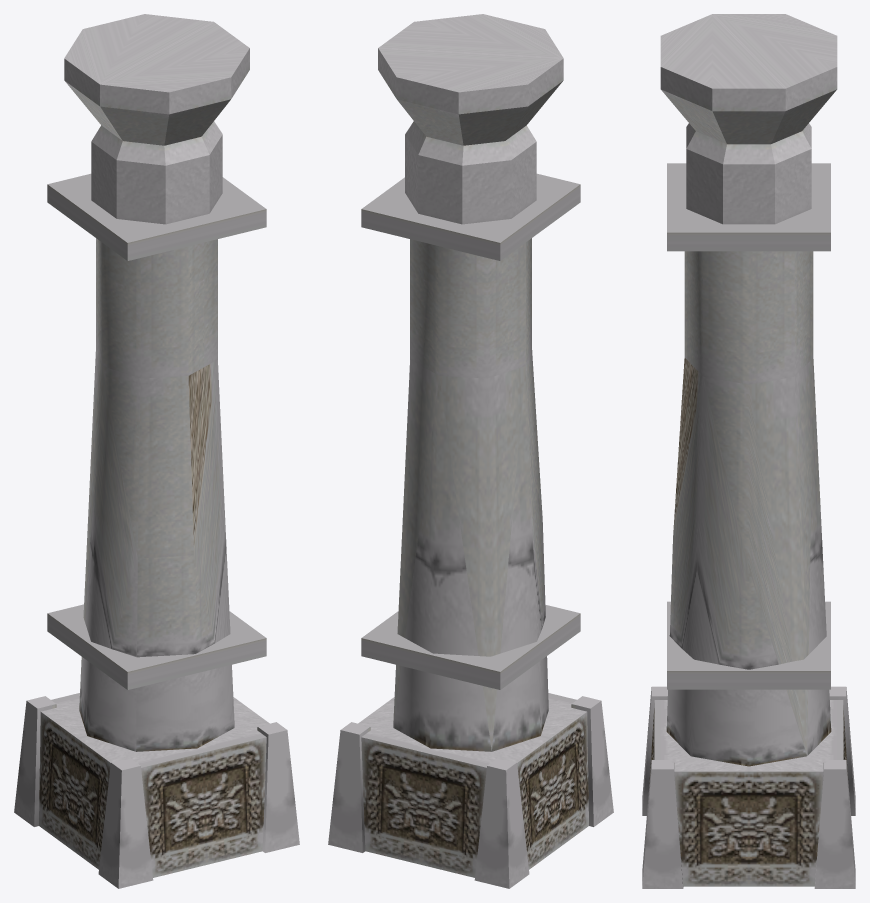
The model's file is general_obj_bigtower03_lod_01.glb.
3 renders of one model, left to right at view 1: azimuth 30°, elevation 25°; view 2: azimuth 150°, elevation 25°; view 3: azimuth 270°, elevation 25°, orthographic. The views are drawn at different scales.
Parts seen in each view (by area): view 1: Sphere01; view 2: Sphere01; view 3: Sphere01.
Boxes of the visible parts, left/top/right/bottom form: Sphere01: left=14, top=14, right=299, bottom=888; Sphere01: left=328, top=14, right=613, bottom=888; Sphere01: left=642, top=14, right=855, bottom=888.
Size of the model in its own units: 5.22 by 21.33 by 5.21.
1 material, 1 textured.
